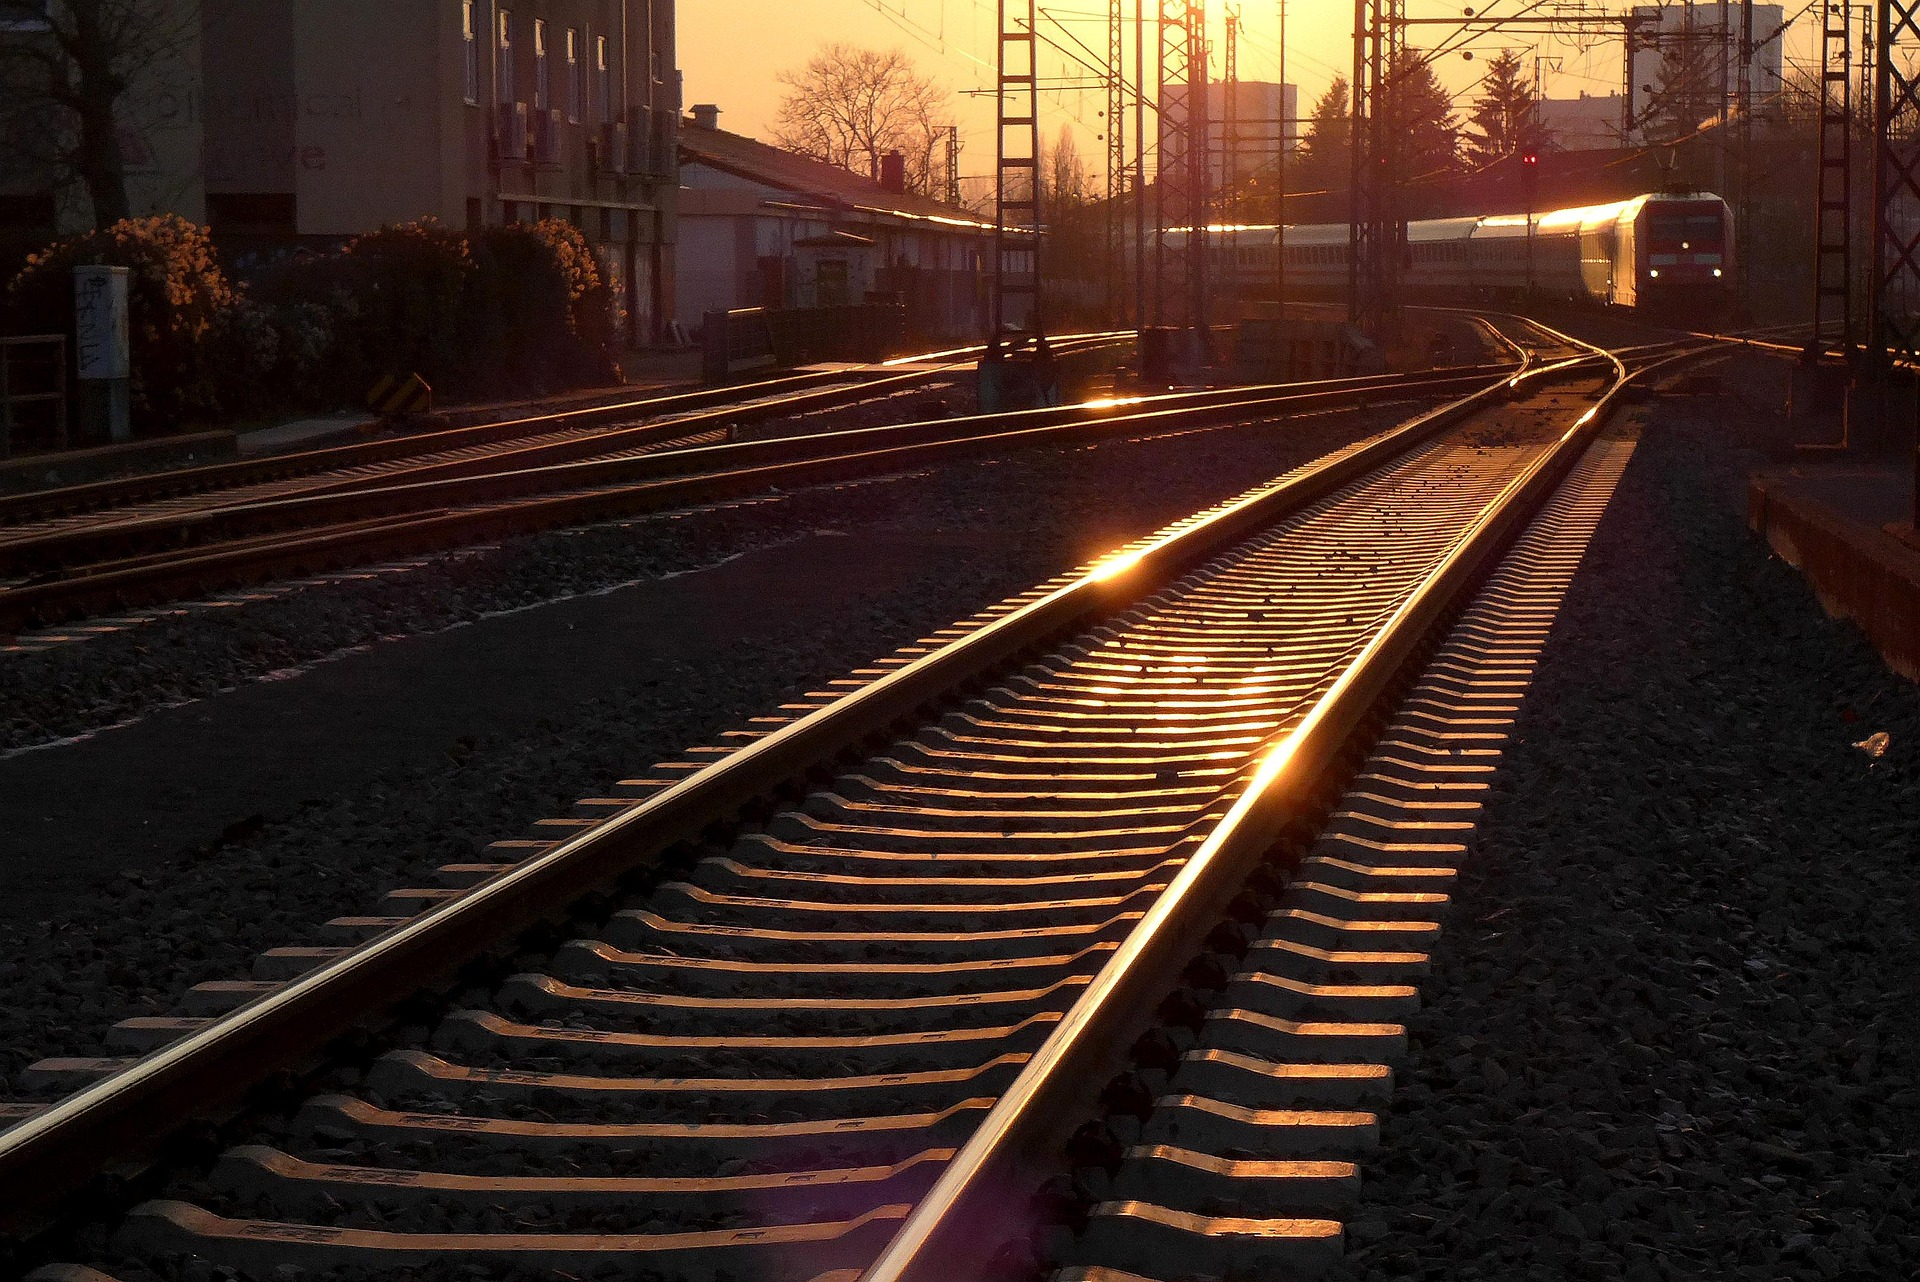voie1: (3, 346, 976, 496)
voie2: (94, 365, 1502, 575)
voie3: (10, 383, 1571, 1273)
